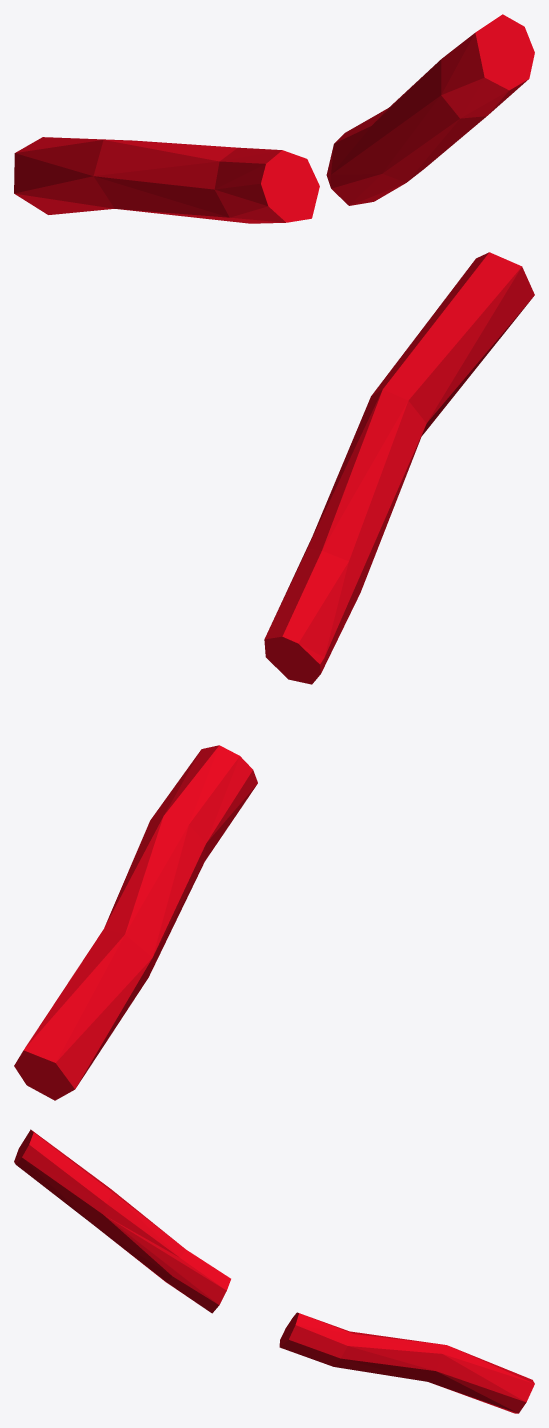
The model's file is redCut.fbx.
3 views of the same model, one above another, from view 1: azimuth 30°, elevation 25°; view 2: azimuth 150°, elevation 25°; view 3: azimuth 270°, elevation 25° (orthographic). The views are drawn at different scales.
Parts seen in each view (by area): view 1: red; view 2: red; view 3: red.
Part boxes in pixels (<box>): red: <box>14,14,534,223</box>; red: <box>14,252,534,1100</box>; red: <box>14,1129,534,1413</box>.
Bounding box in the file's own units: 6.79 × 37.36 × 62.23.
